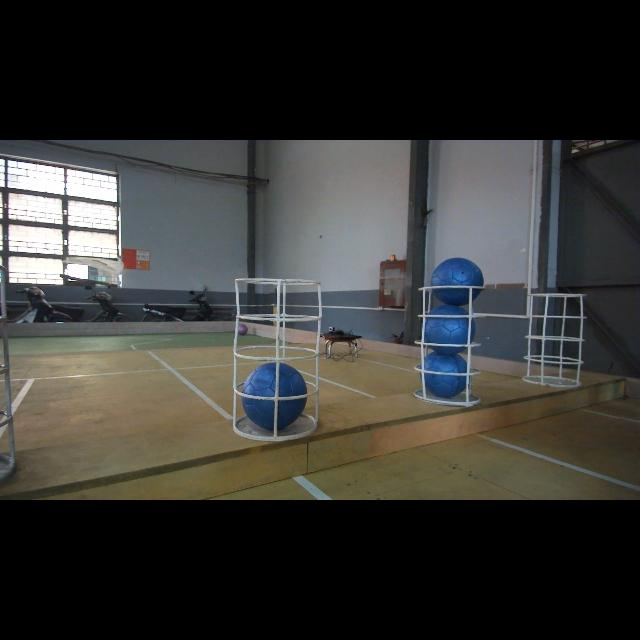B: (241, 362, 309, 432), (422, 304, 476, 354), (431, 258, 483, 306), (420, 351, 470, 399)
